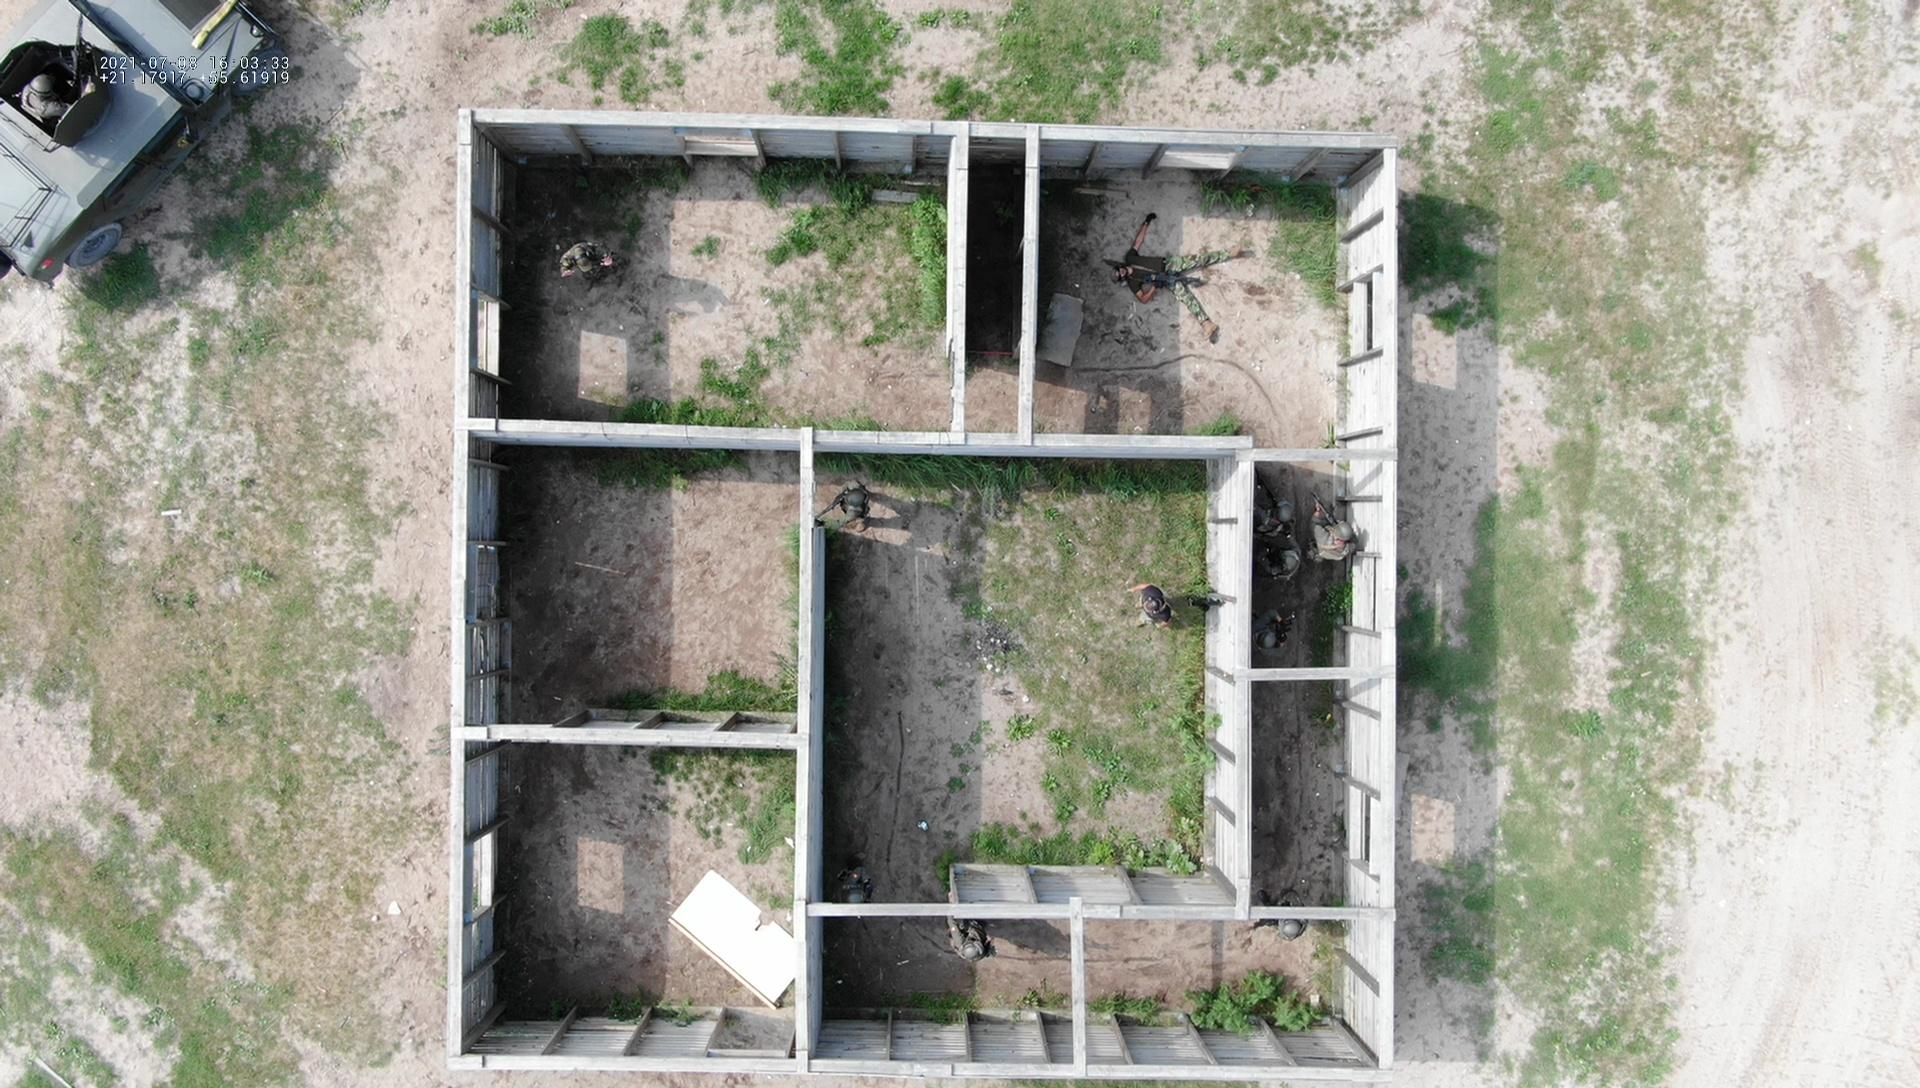Soldier: (1106, 203, 1258, 344), (7, 38, 91, 121), (1246, 881, 1325, 946), (549, 229, 615, 299), (1307, 481, 1356, 571), (820, 459, 876, 535), (822, 845, 886, 909), (1131, 580, 1193, 636), (1250, 601, 1295, 670), (1253, 469, 1299, 535), (1254, 535, 1300, 597), (940, 922, 989, 969)
